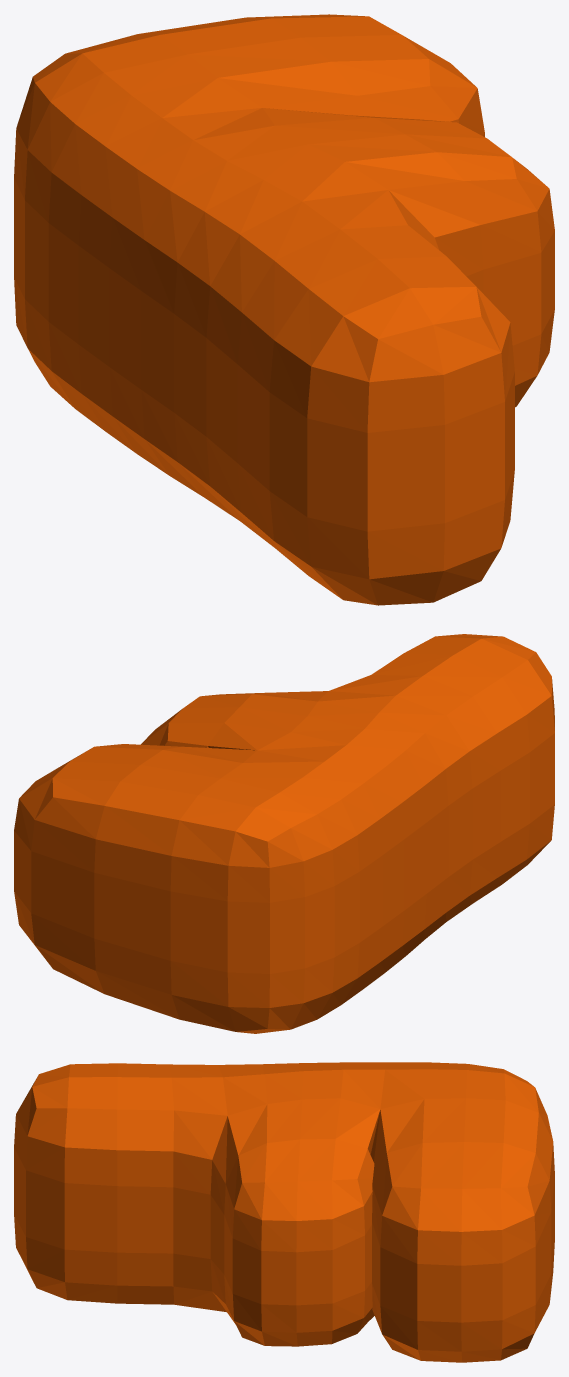
The picture shows the model from 3 angles, top to bottom: view 1: azimuth 30°, elevation 25°; view 2: azimuth 150°, elevation 25°; view 3: azimuth 270°, elevation 25°; orthographic projection. The views are drawn at different scales.
Bounding box in the file's own units: 0.6297 × 0.4347 × 0.9852.
